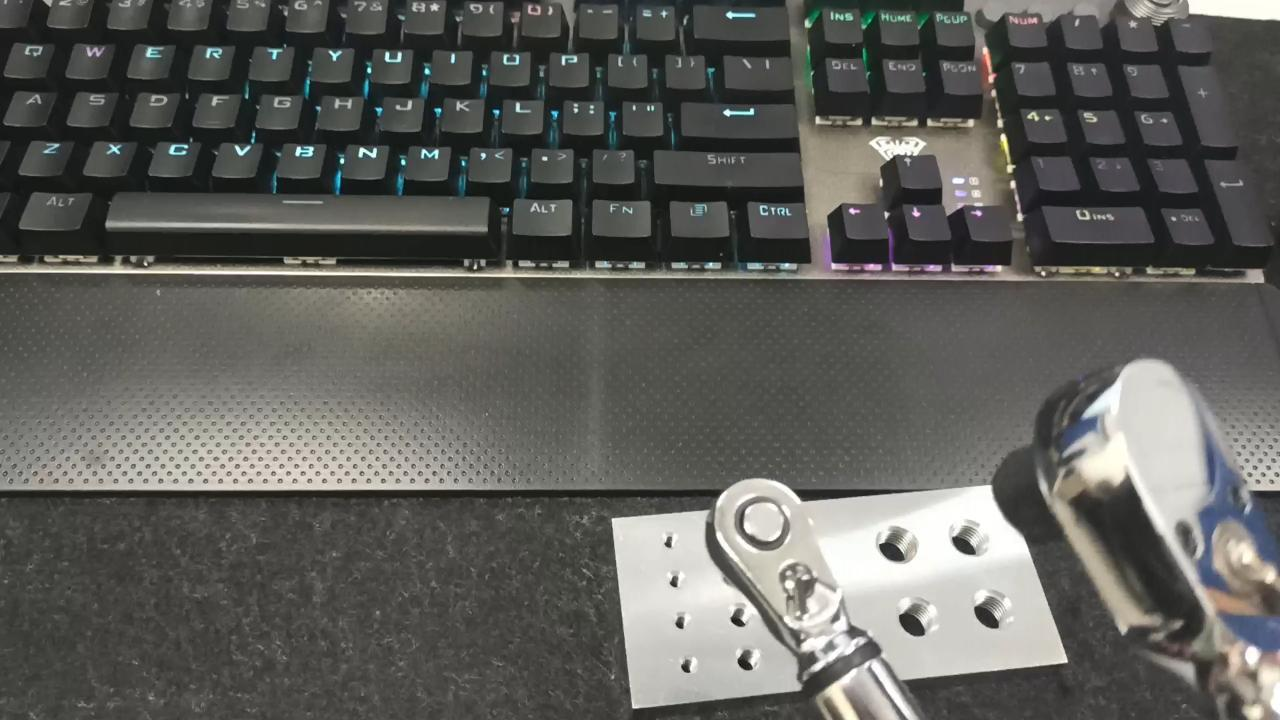Tool: (996, 344, 1280, 720), (707, 474, 853, 662)
